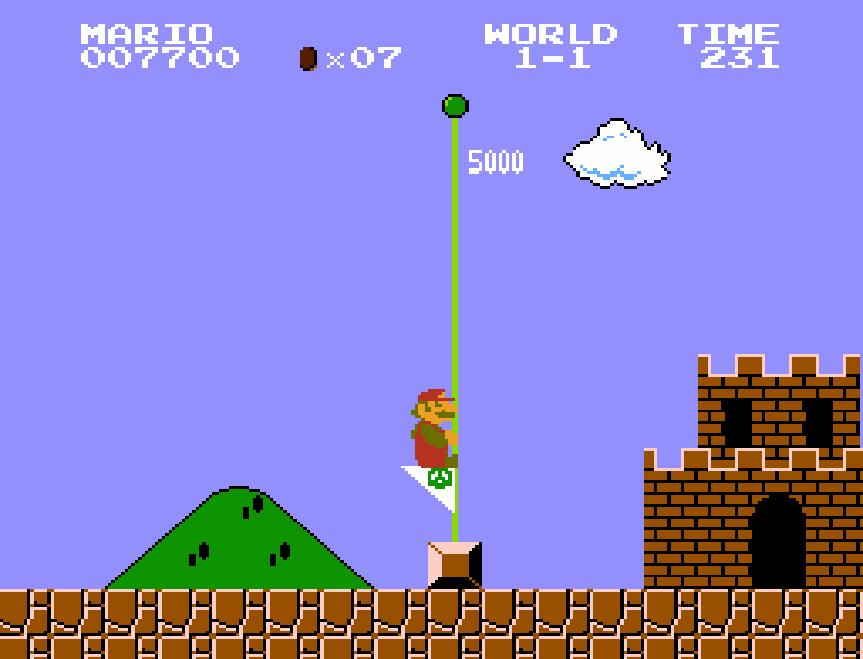big_mario: (402, 381, 461, 479)
